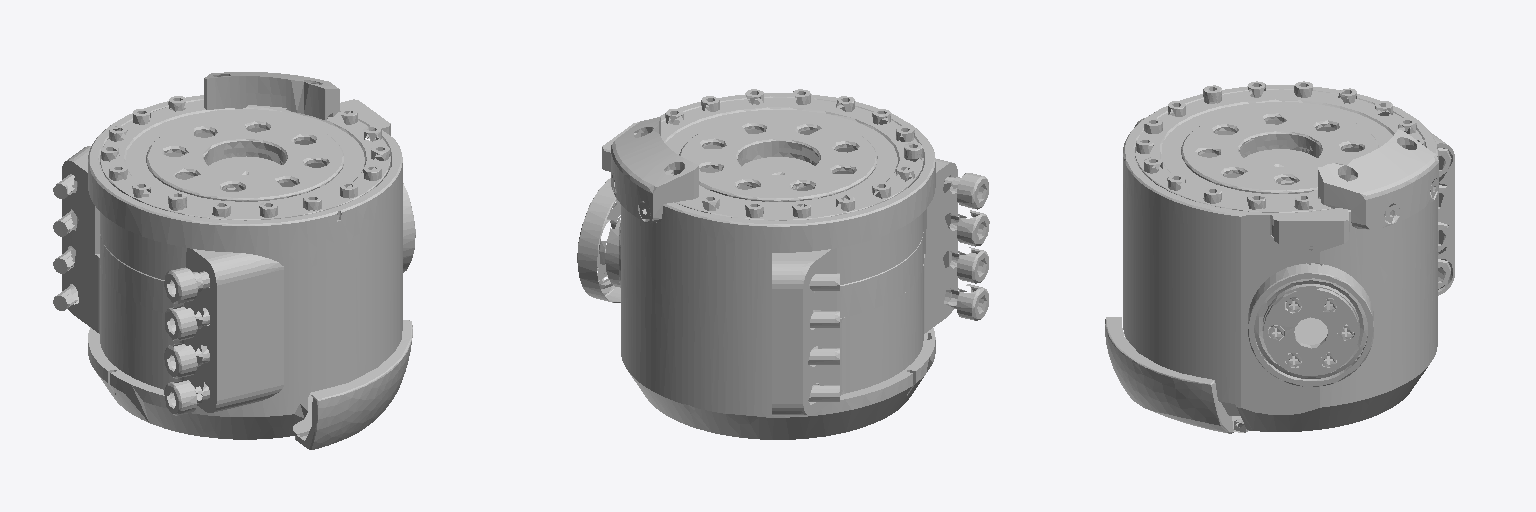
The model's file is sim_ecub_1-1_r_hip_1.obj.
3 views of the same model, side by side, from view 1: azimuth 30°, elevation 25°; view 2: azimuth 150°, elevation 25°; view 3: azimuth 270°, elevation 25° (orthographic).
Bounding box in the file's own units: 101 × 84.95 × 102.